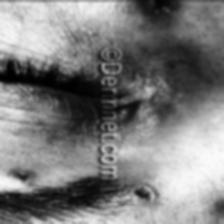Non-Cancerous Skin Condition: (131, 0, 185, 31), (121, 181, 171, 211), (1, 168, 34, 190)
